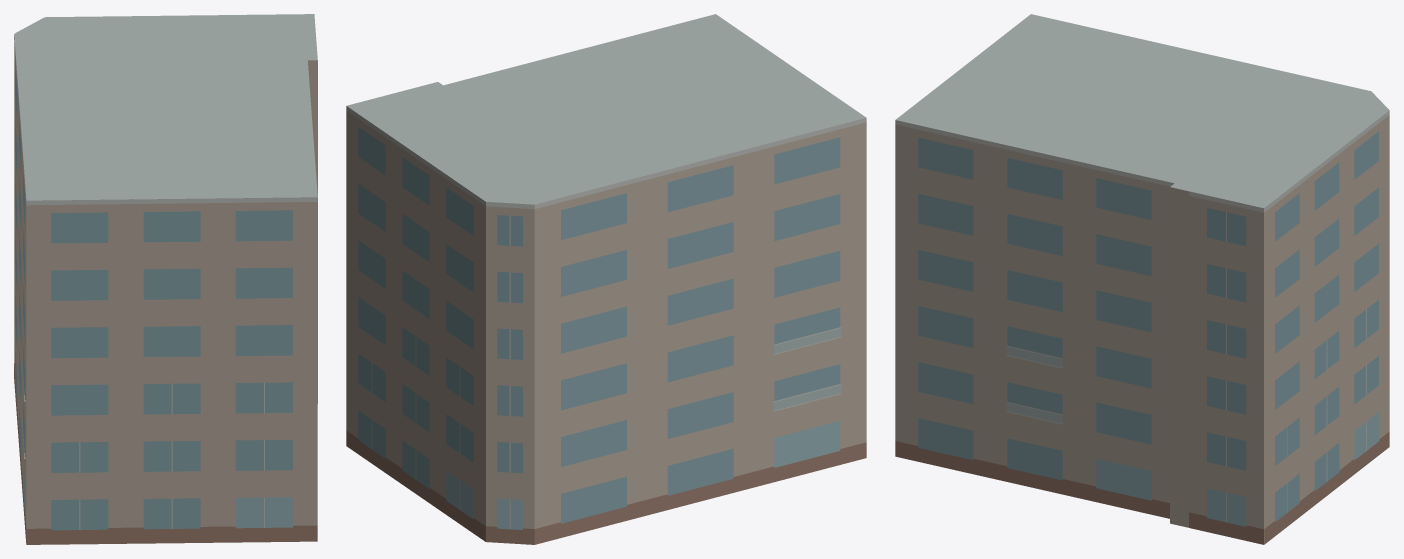
File: survey-upis-32887179.glb
The picture shows the model from 3 angles, left to right: view 1: azimuth 30°, elevation 25°; view 2: azimuth 150°, elevation 25°; view 3: azimuth 270°, elevation 25°; orthographic projection. The views are drawn at different scales.
Parts seen in each view (by area): view 1: survey-upis-32887179.tmp; view 2: survey-upis-32887179.tmp; view 3: survey-upis-32887179.tmp.
Part boxes in pixels (left/top/right/bottom): survey-upis-32887179.tmp: left=14, top=14, right=317, bottom=544; survey-upis-32887179.tmp: left=346, top=14, right=866, bottom=544; survey-upis-32887179.tmp: left=895, top=14, right=1389, bottom=544.
Size of the model in its own units: 22.67 by 18.3 by 24.37.
